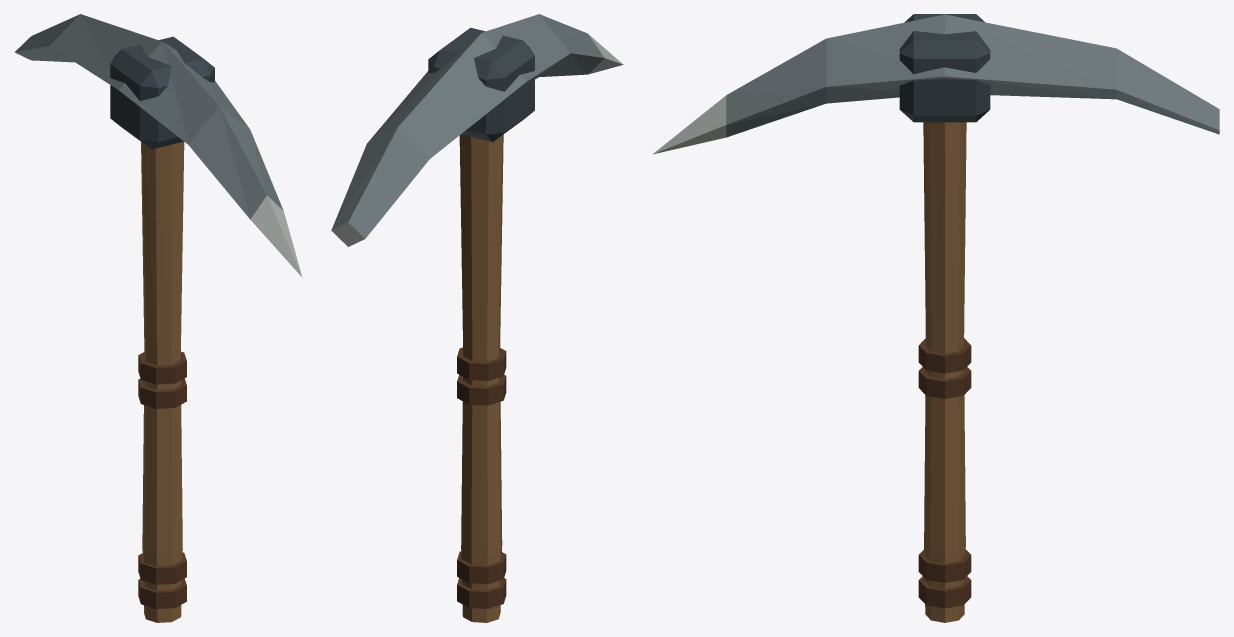
The model's file is mining_pickaxe.glb.
The picture shows the model from 3 angles, left to right: view 1: azimuth 30°, elevation 25°; view 2: azimuth 150°, elevation 25°; view 3: azimuth 270°, elevation 25°; orthographic projection. The views are drawn at different scales.
Visible parts, largest first — view 1: mining_pickaxe; view 2: mining_pickaxe; view 3: mining_pickaxe.
Part boxes in pixels (box(x1,y1,x2,y2)): mining_pickaxe: box(14, 14, 302, 622); mining_pickaxe: box(331, 14, 623, 622); mining_pickaxe: box(653, 14, 1219, 622).
Bounding box in the file's own units: 0.34 × 2.12 × 1.82.
